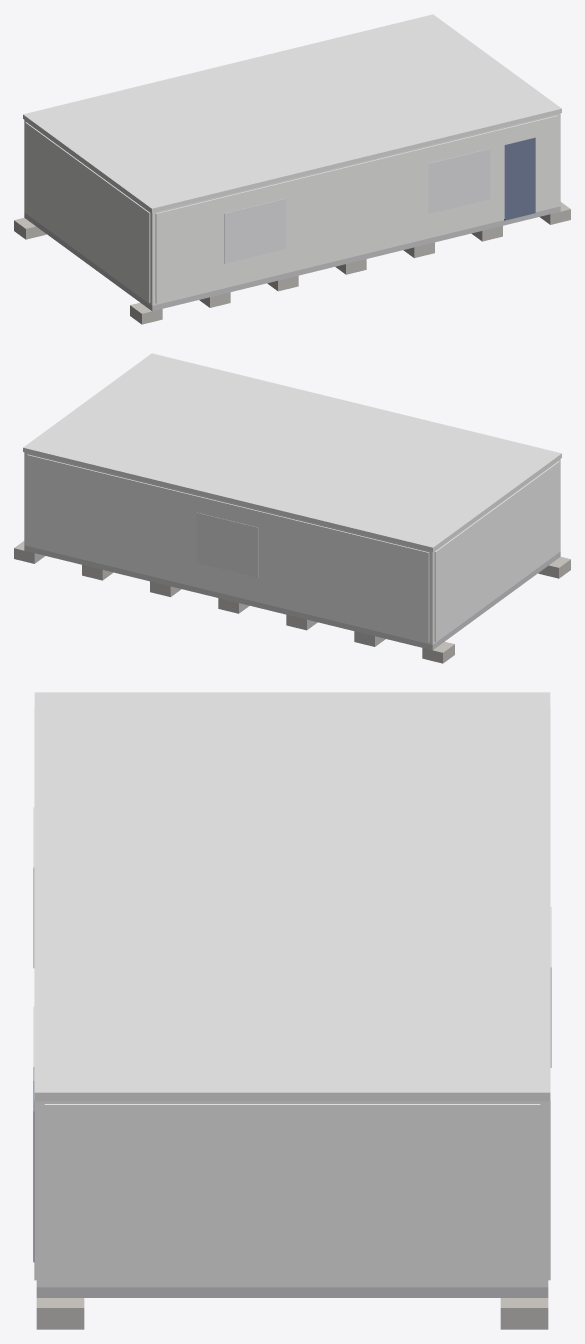
File: Studio-40-Premium-LOD0.glb
The picture shows the model from 3 angles, top to bottom: view 1: azimuth 30°, elevation 25°; view 2: azimuth 150°, elevation 25°; view 3: azimuth 270°, elevation 25°; orthographic projection. The views are drawn at different scales.
Visible parts, largest first — view 1: RoofMain, ExteriorPanelsPremium, WindowsLargeUpgrade, BaseFrame, ExteriorShell, FoundationBlocks, EntryDoor; view 2: RoofMain, ExteriorPanelsPremium, BaseFrame, WindowsLargeUpgrade, ExteriorShell, FoundationBlocks; view 3: RoofMain, ExteriorPanelsPremium, ExteriorShell, BaseFrame, FoundationBlocks, WindowsLargeUpgrade.
Boxes of the visible parts, bbox=[...] form: RoofMain: bbox=[23, 14, 561, 212]; ExteriorPanelsPremium: bbox=[25, 115, 557, 303]; WindowsLargeUpgrade: bbox=[224, 148, 490, 263]; BaseFrame: bbox=[24, 206, 560, 311]; ExteriorShell: bbox=[24, 113, 560, 305]; FoundationBlocks: bbox=[14, 202, 570, 324]; EntryDoor: bbox=[504, 137, 535, 220]; RoofMain: bbox=[23, 353, 561, 551]; ExteriorPanelsPremium: bbox=[27, 454, 559, 642]; BaseFrame: bbox=[24, 545, 560, 650]; WindowsLargeUpgrade: bbox=[196, 512, 258, 577]; ExteriorShell: bbox=[24, 452, 560, 644]; FoundationBlocks: bbox=[14, 541, 570, 663]; RoofMain: bbox=[34, 692, 550, 1101]; ExteriorPanelsPremium: bbox=[34, 709, 550, 1284]; ExteriorShell: bbox=[36, 1101, 548, 1287]; BaseFrame: bbox=[36, 1287, 548, 1297]; FoundationBlocks: bbox=[36, 1298, 548, 1329]; WindowsLargeUpgrade: bbox=[33, 807, 551, 1080].
Bounding box in the file's own units: 12.49 × 3.17 × 6.53.
